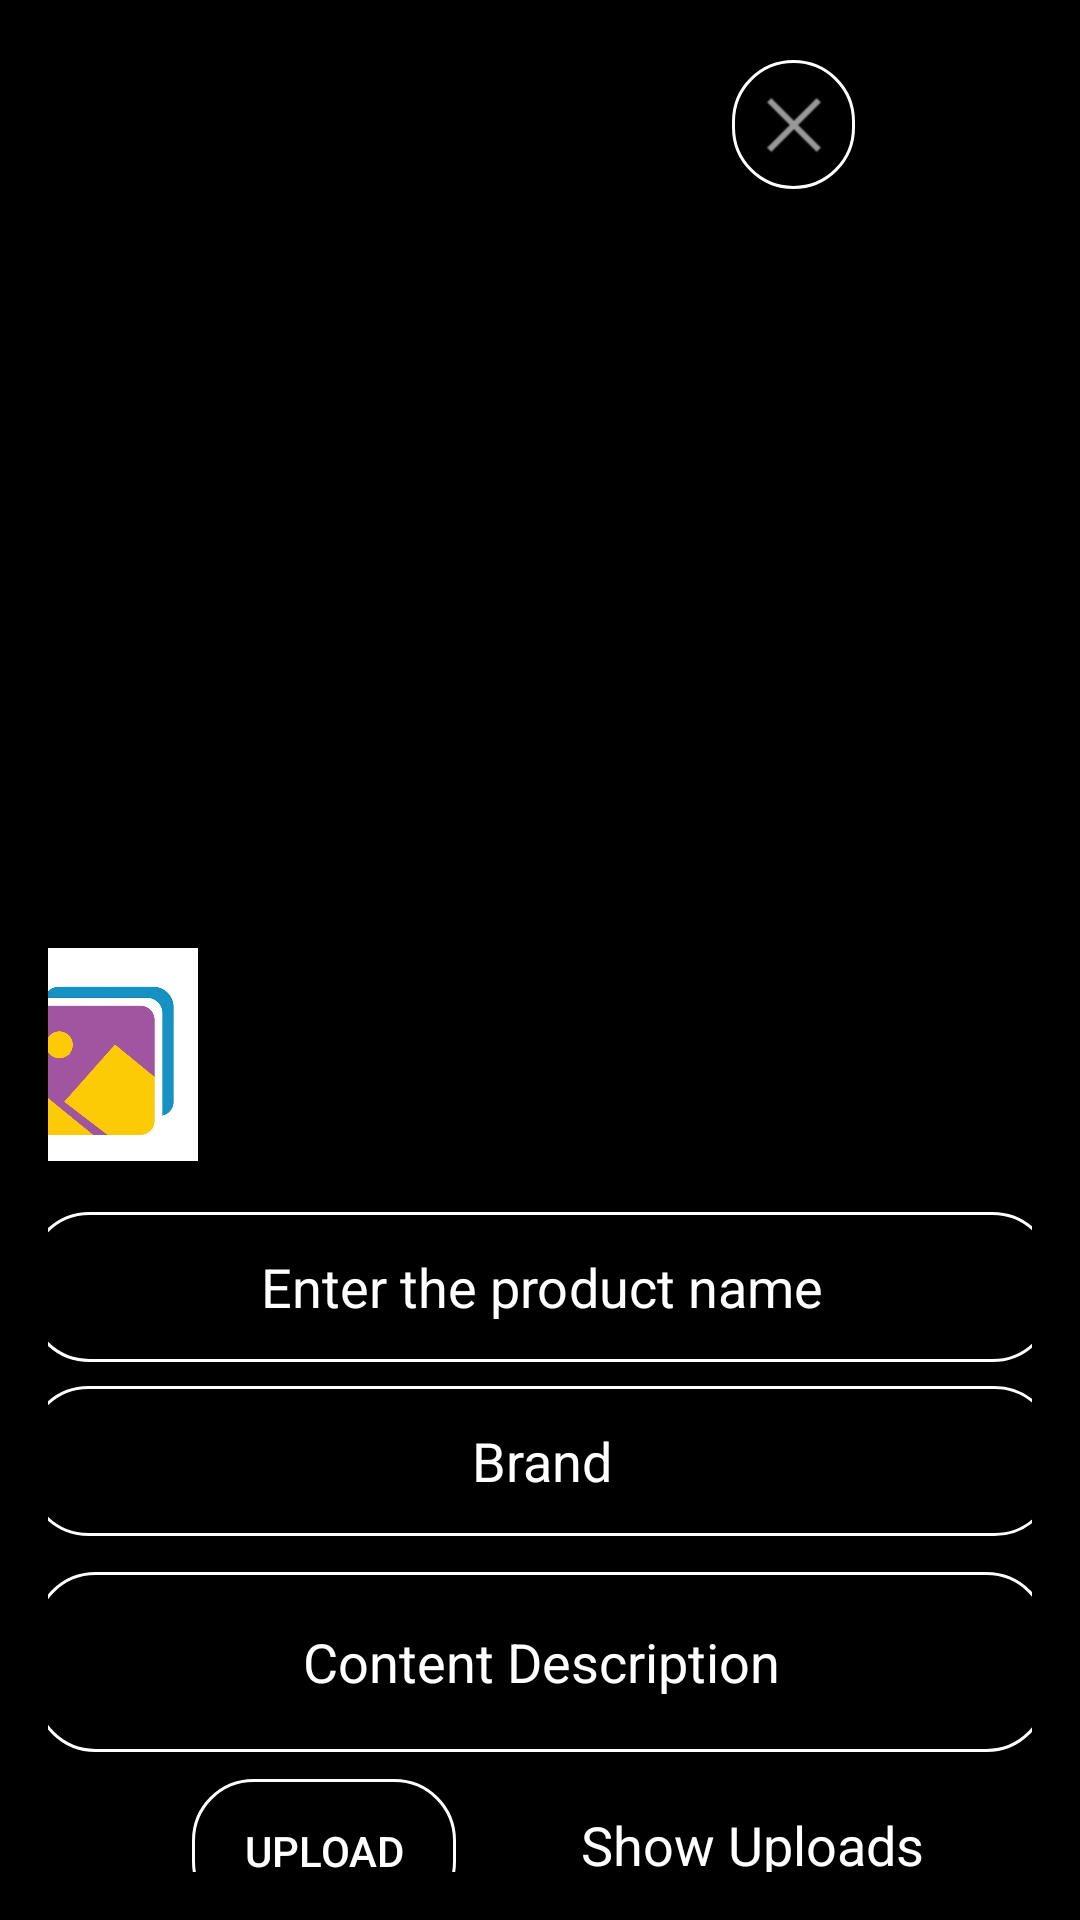

Screen size 1080×1920. Icon name, then its center in pixels as point (x, y):
close clear cancel: point (793, 124)
